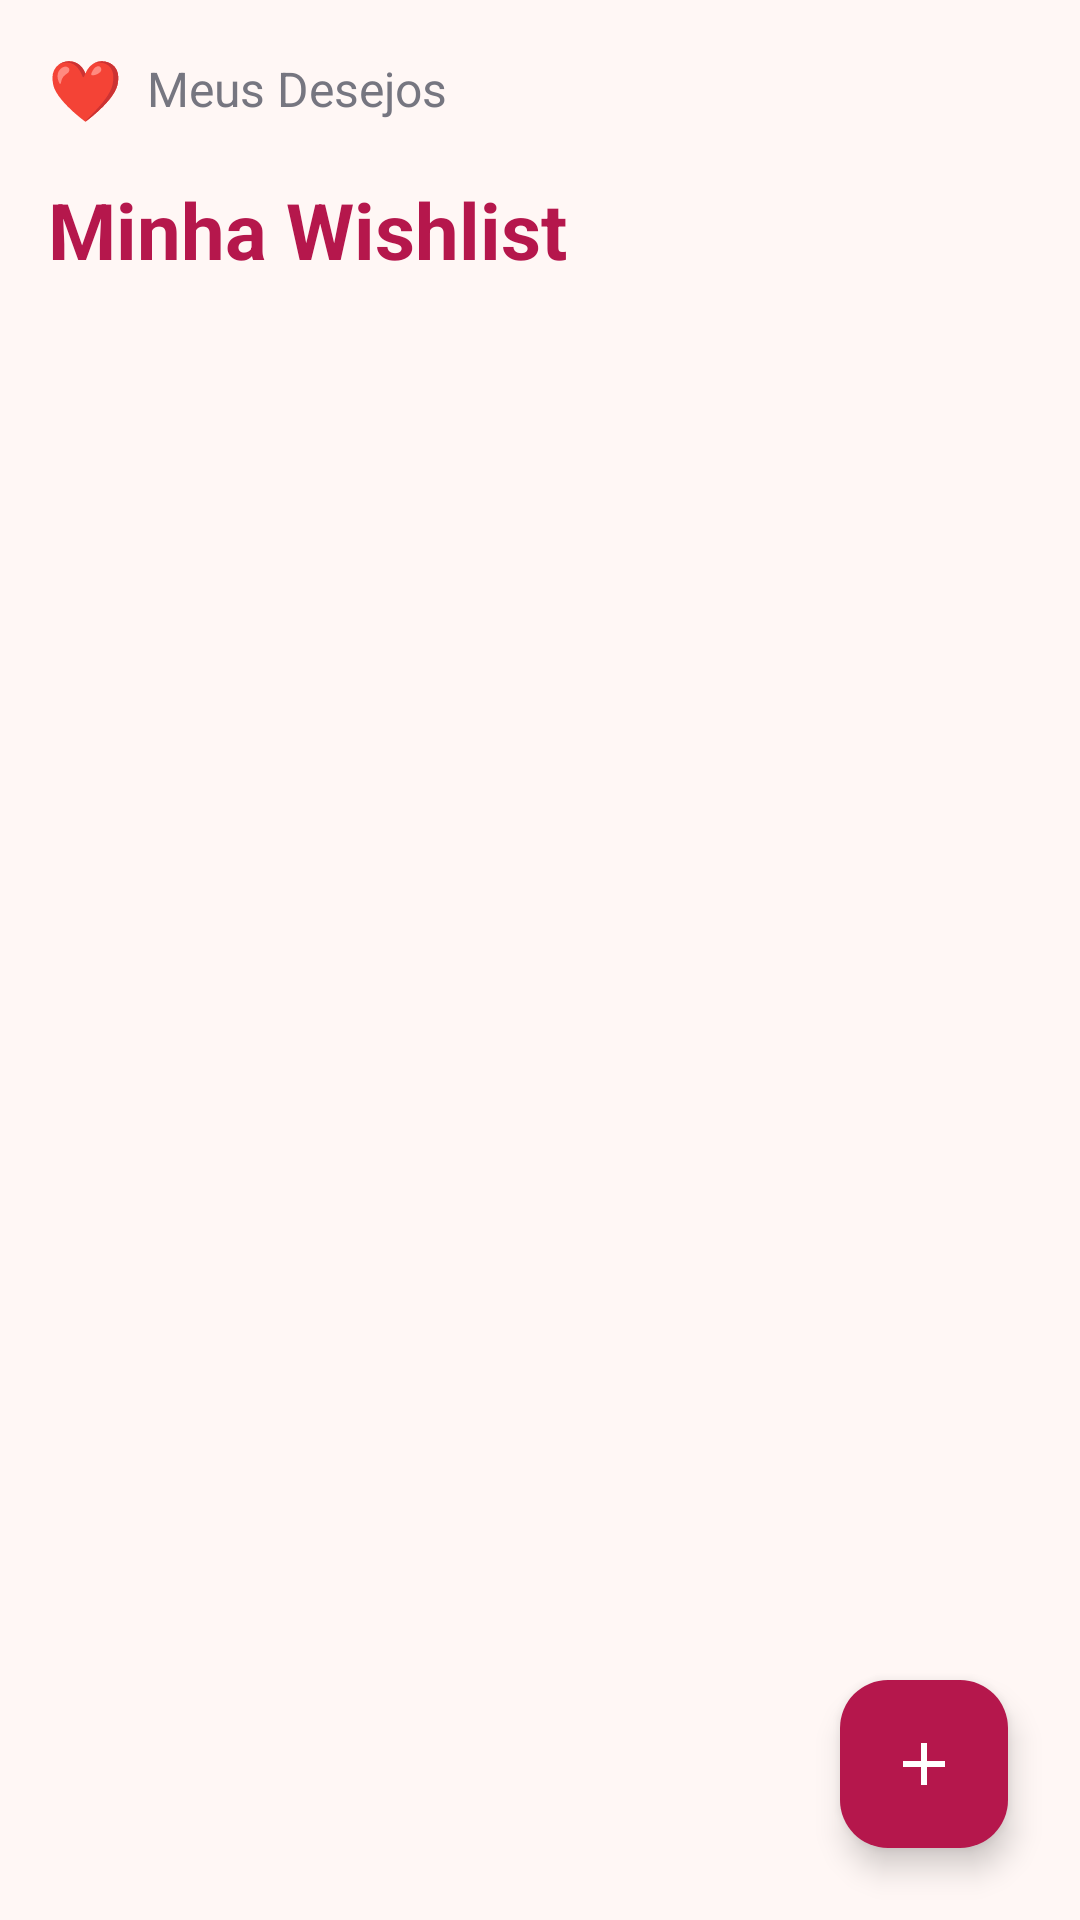

Icons on this 1080px x 1920px Android screen, each with the point to tap as (x,y):
Adicionar item: (924,1764)
